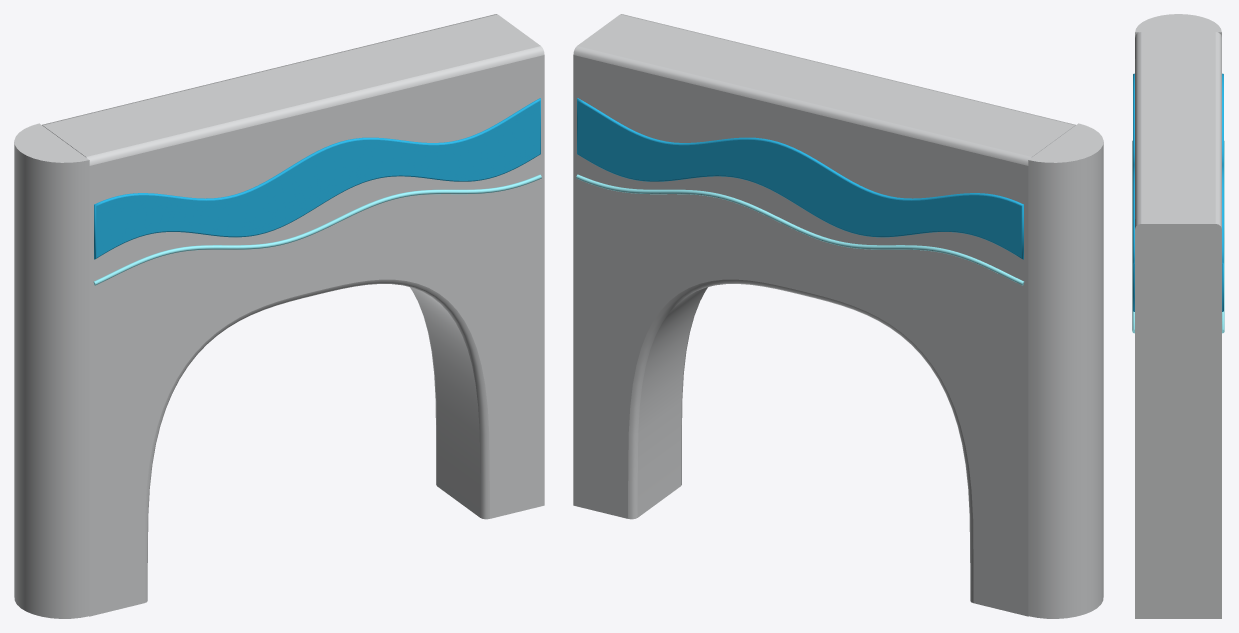
Rendered from Arch_D05_WaveCrest.fbx.
3 renders of one model, left to right at view 1: azimuth 30°, elevation 25°; view 2: azimuth 150°, elevation 25°; view 3: azimuth 270°, elevation 25°, orthographic. The views are drawn at different scales.
Parts seen in each view (by area): view 1: Arch_D05_WaveCrest; view 2: Arch_D05_WaveCrest; view 3: Arch_D05_WaveCrest.
Part boxes in pixels (left/top/right/bottom): Arch_D05_WaveCrest: left=14, top=14, right=544, bottom=618; Arch_D05_WaveCrest: left=573, top=14, right=1103, bottom=618; Arch_D05_WaveCrest: left=1132, top=14, right=1224, bottom=618.
Size of the model in its own units: 2.29 by 2.01 by 0.426.
